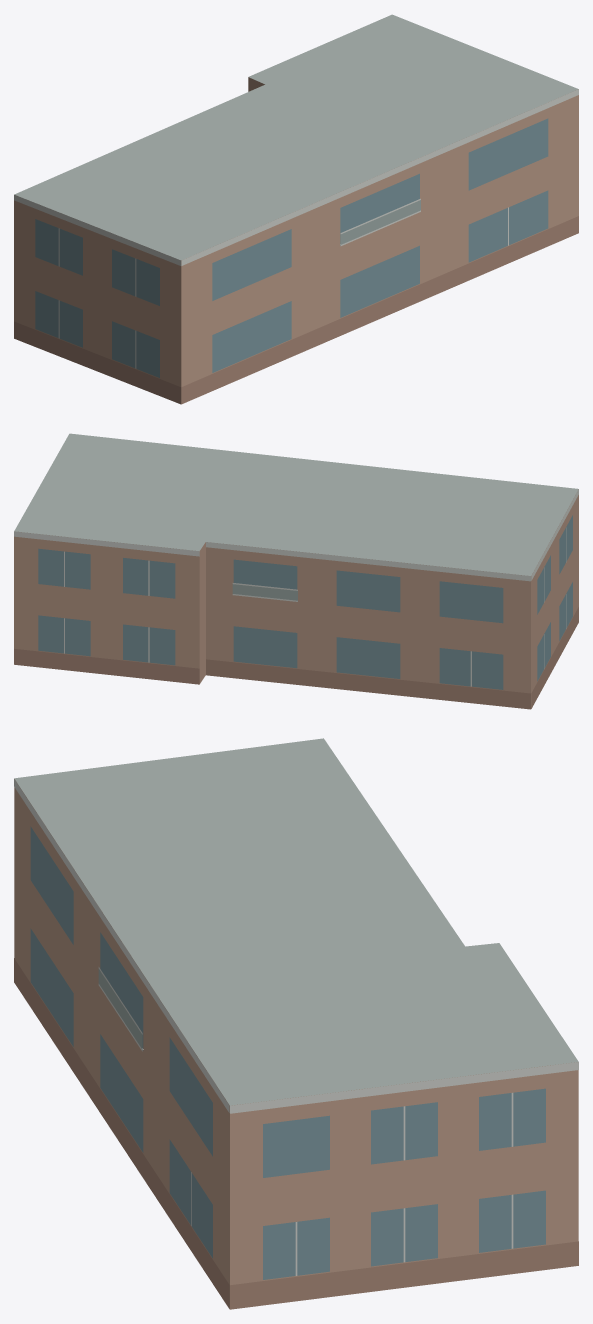
The model's file is survey-upis-32858181.glb.
The picture shows the model from 3 angles, top to bottom: view 1: azimuth 30°, elevation 25°; view 2: azimuth 150°, elevation 25°; view 3: azimuth 270°, elevation 25°; orthographic projection. The views are drawn at different scales.
Parts seen in each view (by area): view 1: survey-upis-32858181.tmp; view 2: survey-upis-32858181.tmp; view 3: survey-upis-32858181.tmp.
Boxes of the visible parts, x1,y1,x2,y2 form: survey-upis-32858181.tmp: [14, 14, 578, 404]; survey-upis-32858181.tmp: [14, 433, 578, 709]; survey-upis-32858181.tmp: [14, 738, 578, 1309].
Bounding box in the file's own units: 23.58 × 6.1 × 15.32.
